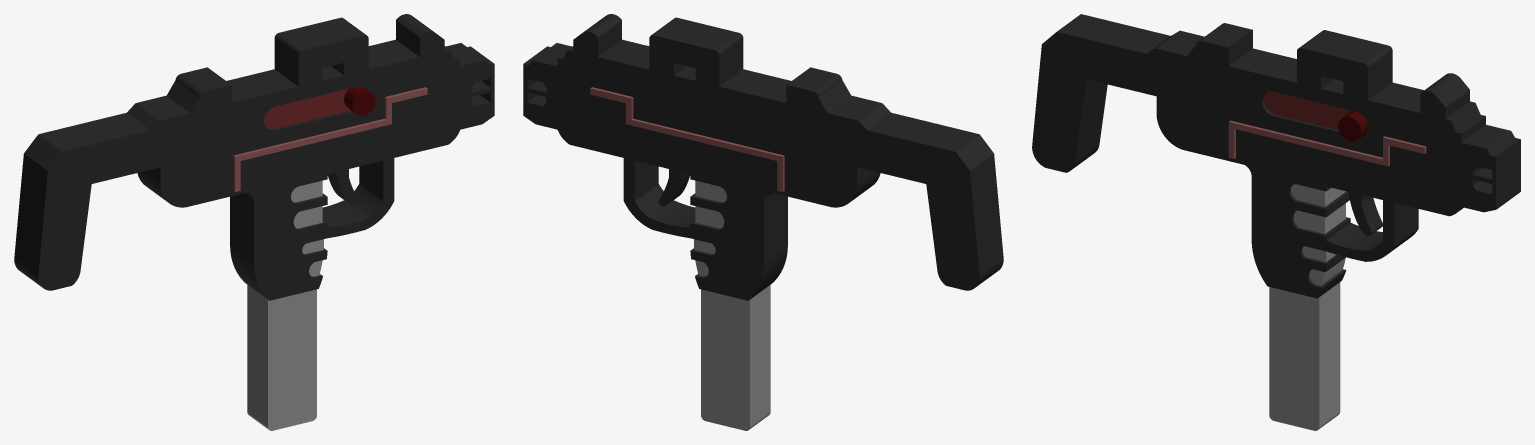
The model's file is smg.gltf.gltf.
The picture shows the model from 3 angles, left to right: view 1: azimuth 30°, elevation 25°; view 2: azimuth 150°, elevation 25°; view 3: azimuth 330°, elevation 25°; orthographic projection.
Parts seen in each view (by area): view 1: root; view 2: root; view 3: root.
Boxes of the visible parts, x1=… form: root: x1=14, y1=14, x2=494, y2=430; root: x1=523, y1=14, x2=1003, y2=430; root: x1=1032, y1=14, x2=1520, y2=430.
Bounding box in the file's own units: 1.69 × 1.32 × 0.209.
